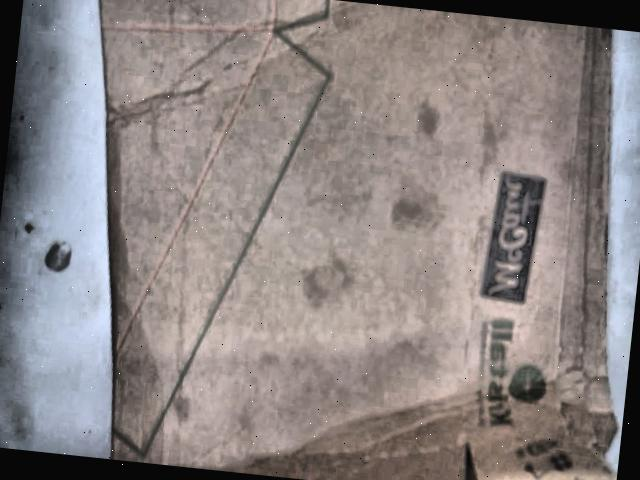Paper: (99, 0, 618, 480)
